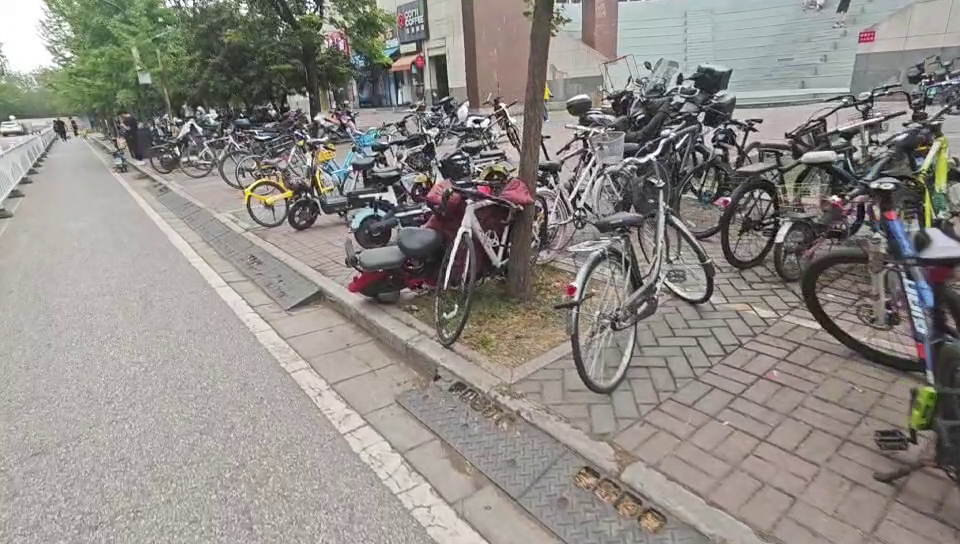others: (818, 153, 959, 515), (578, 140, 721, 410), (433, 151, 559, 354), (344, 183, 518, 299), (725, 112, 816, 288)
shared_bike_haluo: (301, 124, 382, 195)
shared_bike_meituan: (239, 138, 332, 226)
